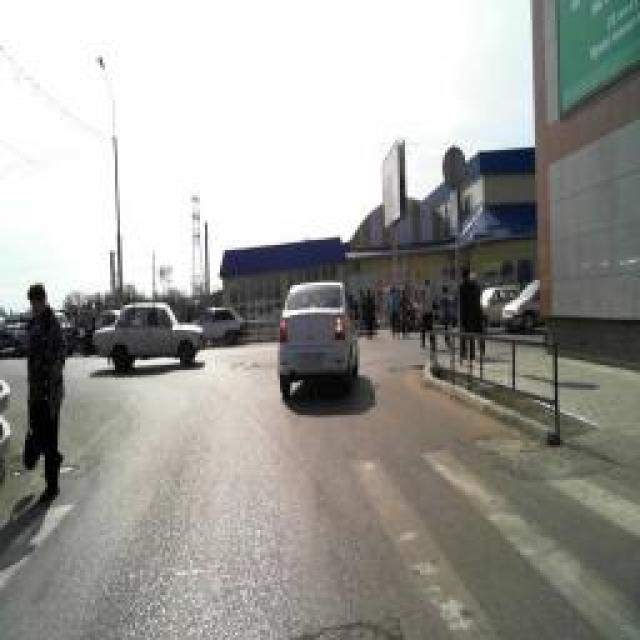sign: (449, 190, 461, 238)
